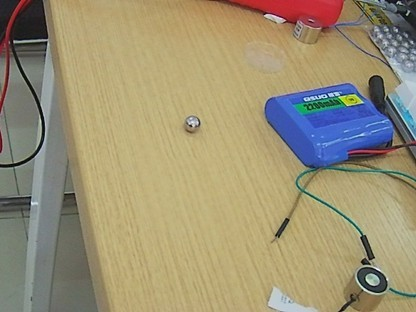ironball: (176, 109, 203, 135)
